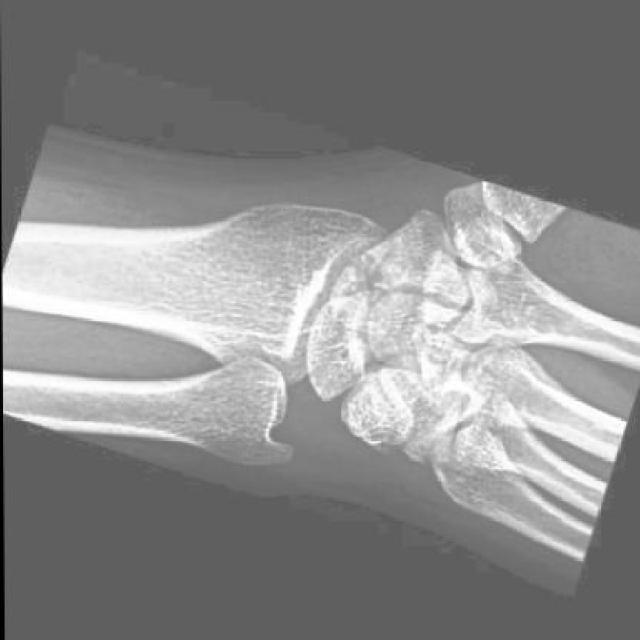Fracture: (322, 223, 418, 334)
